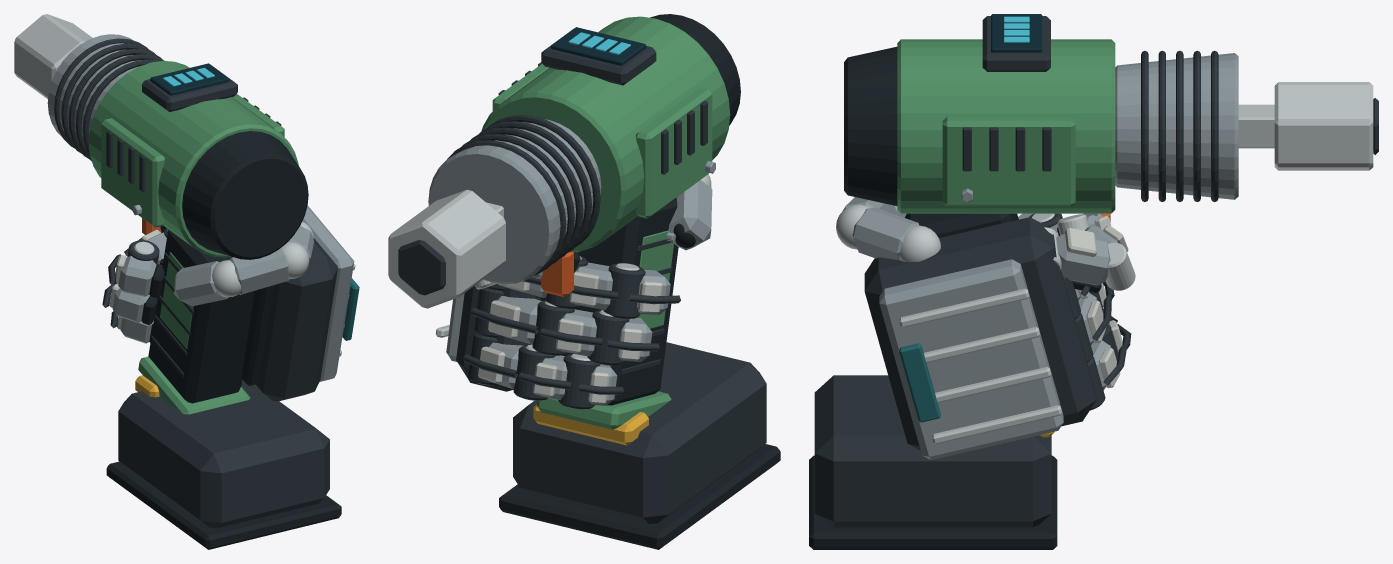
File: tool_socket.glb
3 renders of one model, left to right at view 1: azimuth 30°, elevation 25°; view 2: azimuth 150°, elevation 25°; view 3: azimuth 270°, elevation 25°, orthographic. The views are drawn at different scales.
Visible parts, largest first — view 1: tool, hand, rotor; view 2: tool, hand, rotor; view 3: tool, hand, rotor.
Part boxes in pixels (x1=…): tool: x1=47, y1=34, x2=341, y2=549; hand: x1=102, y1=206, x2=359, y2=401; rotor: x1=14, y1=14, x2=92, y2=98; tool: x1=428, y1=14, x2=780, y2=549; hand: x1=436, y1=174, x2=712, y2=409; rotor: x1=388, y1=190, x2=505, y2=308; tool: x1=809, y1=14, x2=1238, y2=549; hand: x1=836, y1=197, x2=1135, y2=459; rotor: x1=1238, y1=82, x2=1378, y2=170.
Size of the model in its own units: 0.1465 by 0.2805 by 0.3005.
